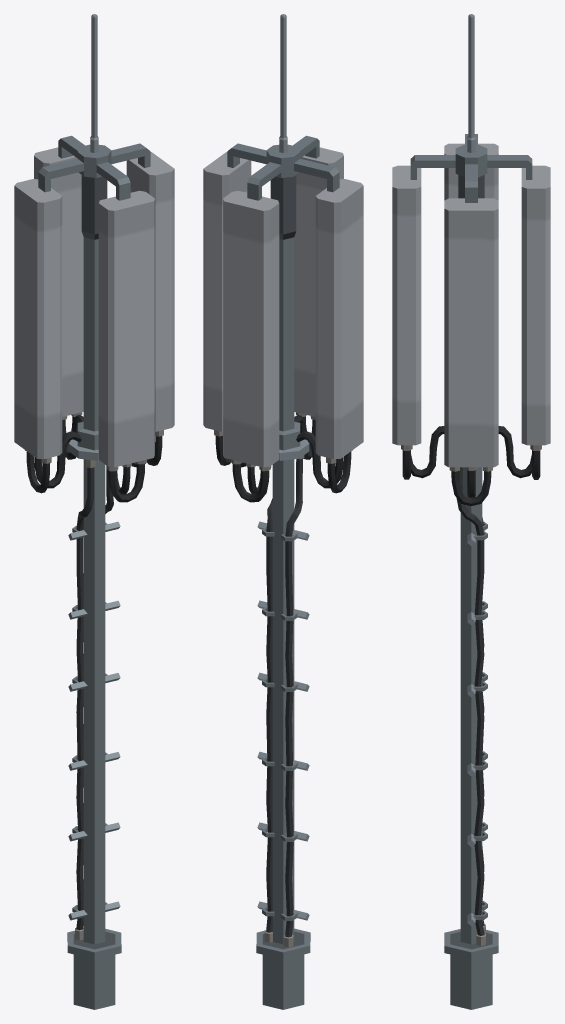
File: SM_Prop_Antenna_02.fbx
The picture shows the model from 3 angles, left to right: view 1: azimuth 30°, elevation 25°; view 2: azimuth 150°, elevation 25°; view 3: azimuth 270°, elevation 25°; orthographic projection.
Parts seen in each view (by area): view 1: SM_Prop_Antenna_02; view 2: SM_Prop_Antenna_02; view 3: SM_Prop_Antenna_02.
Boxes of the visible parts, bbox=[...] form: SM_Prop_Antenna_02: bbox=[14, 14, 174, 1009]; SM_Prop_Antenna_02: bbox=[203, 14, 363, 1009]; SM_Prop_Antenna_02: bbox=[392, 14, 550, 1009].
Size of the model in its own units: 162 by 1113 by 162.
